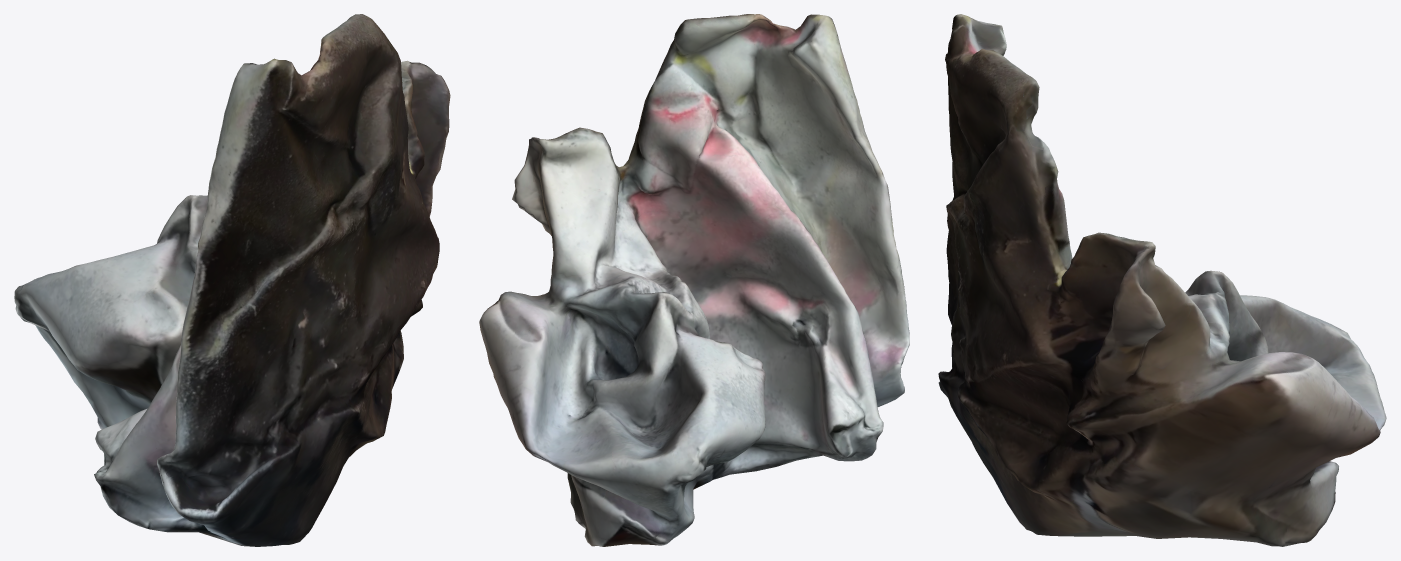
File: preview.glb
3 renders of one model, left to right at view 1: azimuth 30°, elevation 25°; view 2: azimuth 150°, elevation 25°; view 3: azimuth 270°, elevation 25°, orthographic. The views are drawn at different scales.
Visible parts, largest first — view 1: ObjectCapture; view 2: ObjectCapture; view 3: ObjectCapture.
Boxes of the visible parts, x1,y1,x2,y2 form: ObjectCapture: (14, 14, 450, 546); ObjectCapture: (479, 14, 909, 546); ObjectCapture: (938, 14, 1386, 546).
Size of the model in its own units: 0.1975 by 0.254 by 0.2109.
Materials: 1 (1 with a texture image).
